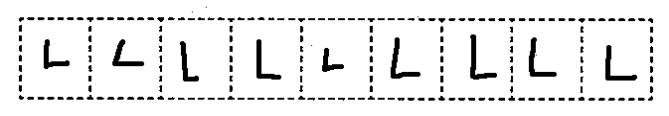L: (461, 29, 504, 83), (246, 33, 289, 86), (384, 31, 426, 85), (518, 31, 560, 82), (596, 40, 640, 86), (173, 36, 207, 88), (109, 33, 148, 75), (37, 33, 74, 75), (313, 41, 351, 80)
